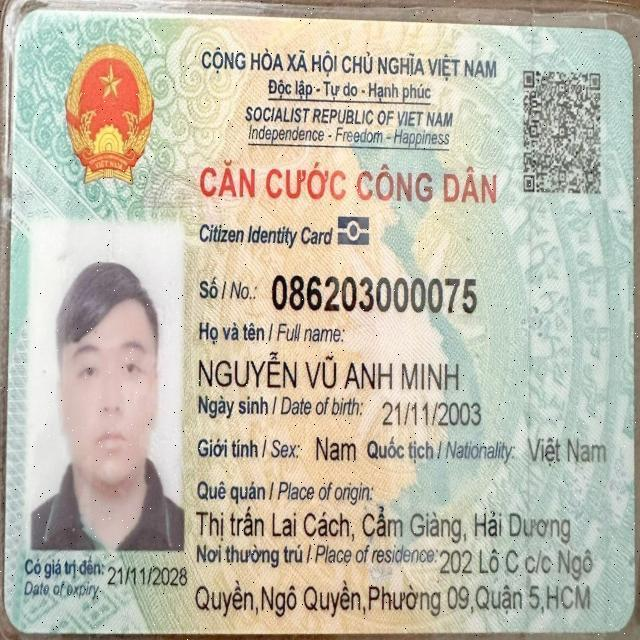current_place: (193, 576, 593, 622), (438, 545, 595, 582)
dob: (380, 397, 483, 431)
expire_date: (105, 563, 189, 591)
gender: (313, 432, 358, 467)
id: (269, 269, 479, 318)
name: (196, 348, 460, 395)
nationality: (526, 434, 608, 470)
origin_place: (193, 504, 573, 546)
